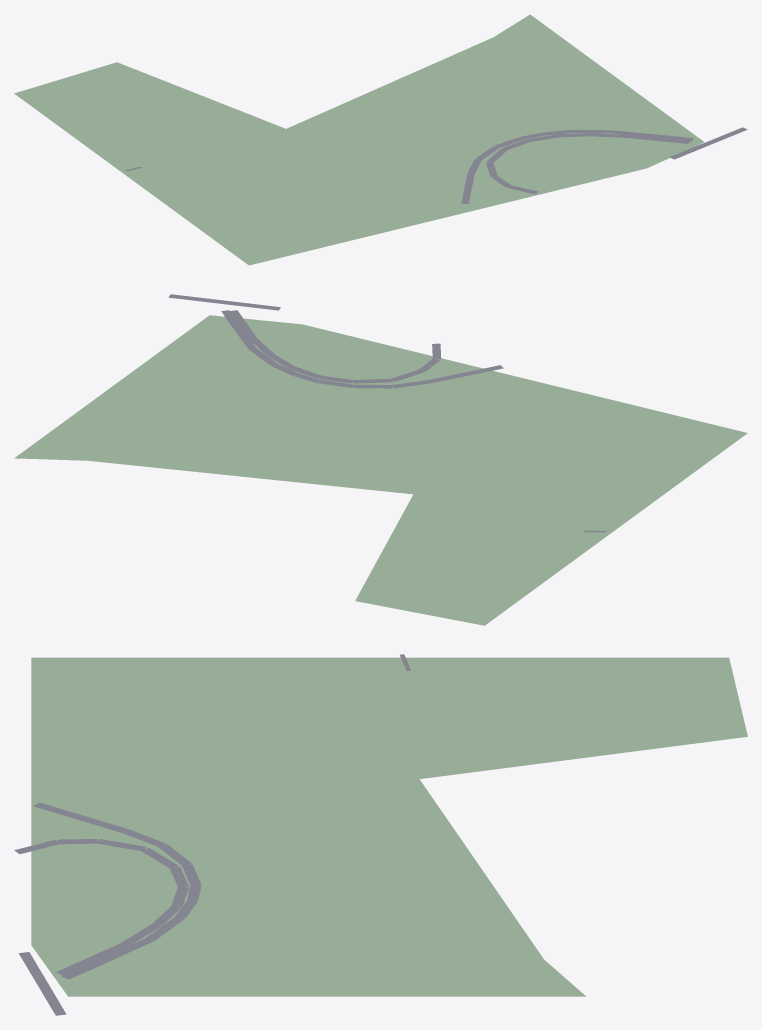
File: 127_128_mid.glb
The picture shows the model from 3 angles, top to bottom: view 1: azimuth 30°, elevation 25°; view 2: azimuth 150°, elevation 25°; view 3: azimuth 270°, elevation 25°; orthographic projection. The views are drawn at different scales.
Size of the model in its own units: 542 by 7.47 by 457.
